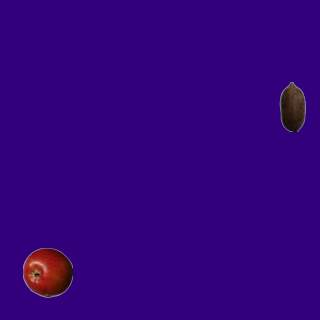Apple Braeburn: (22, 247, 72, 297)
Nut Pecan: (267, 81, 317, 131)
